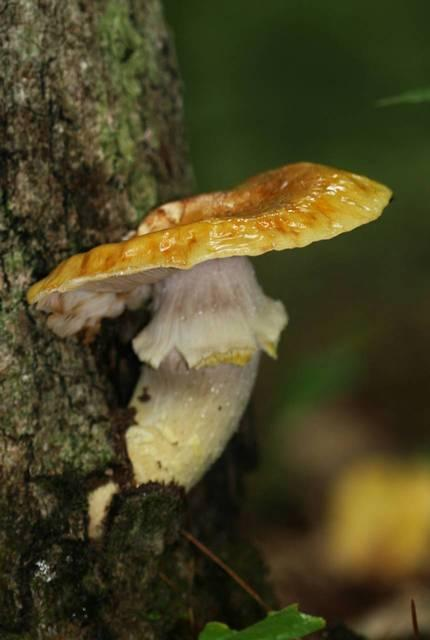Edible Mushroom: (25, 159, 393, 538)
